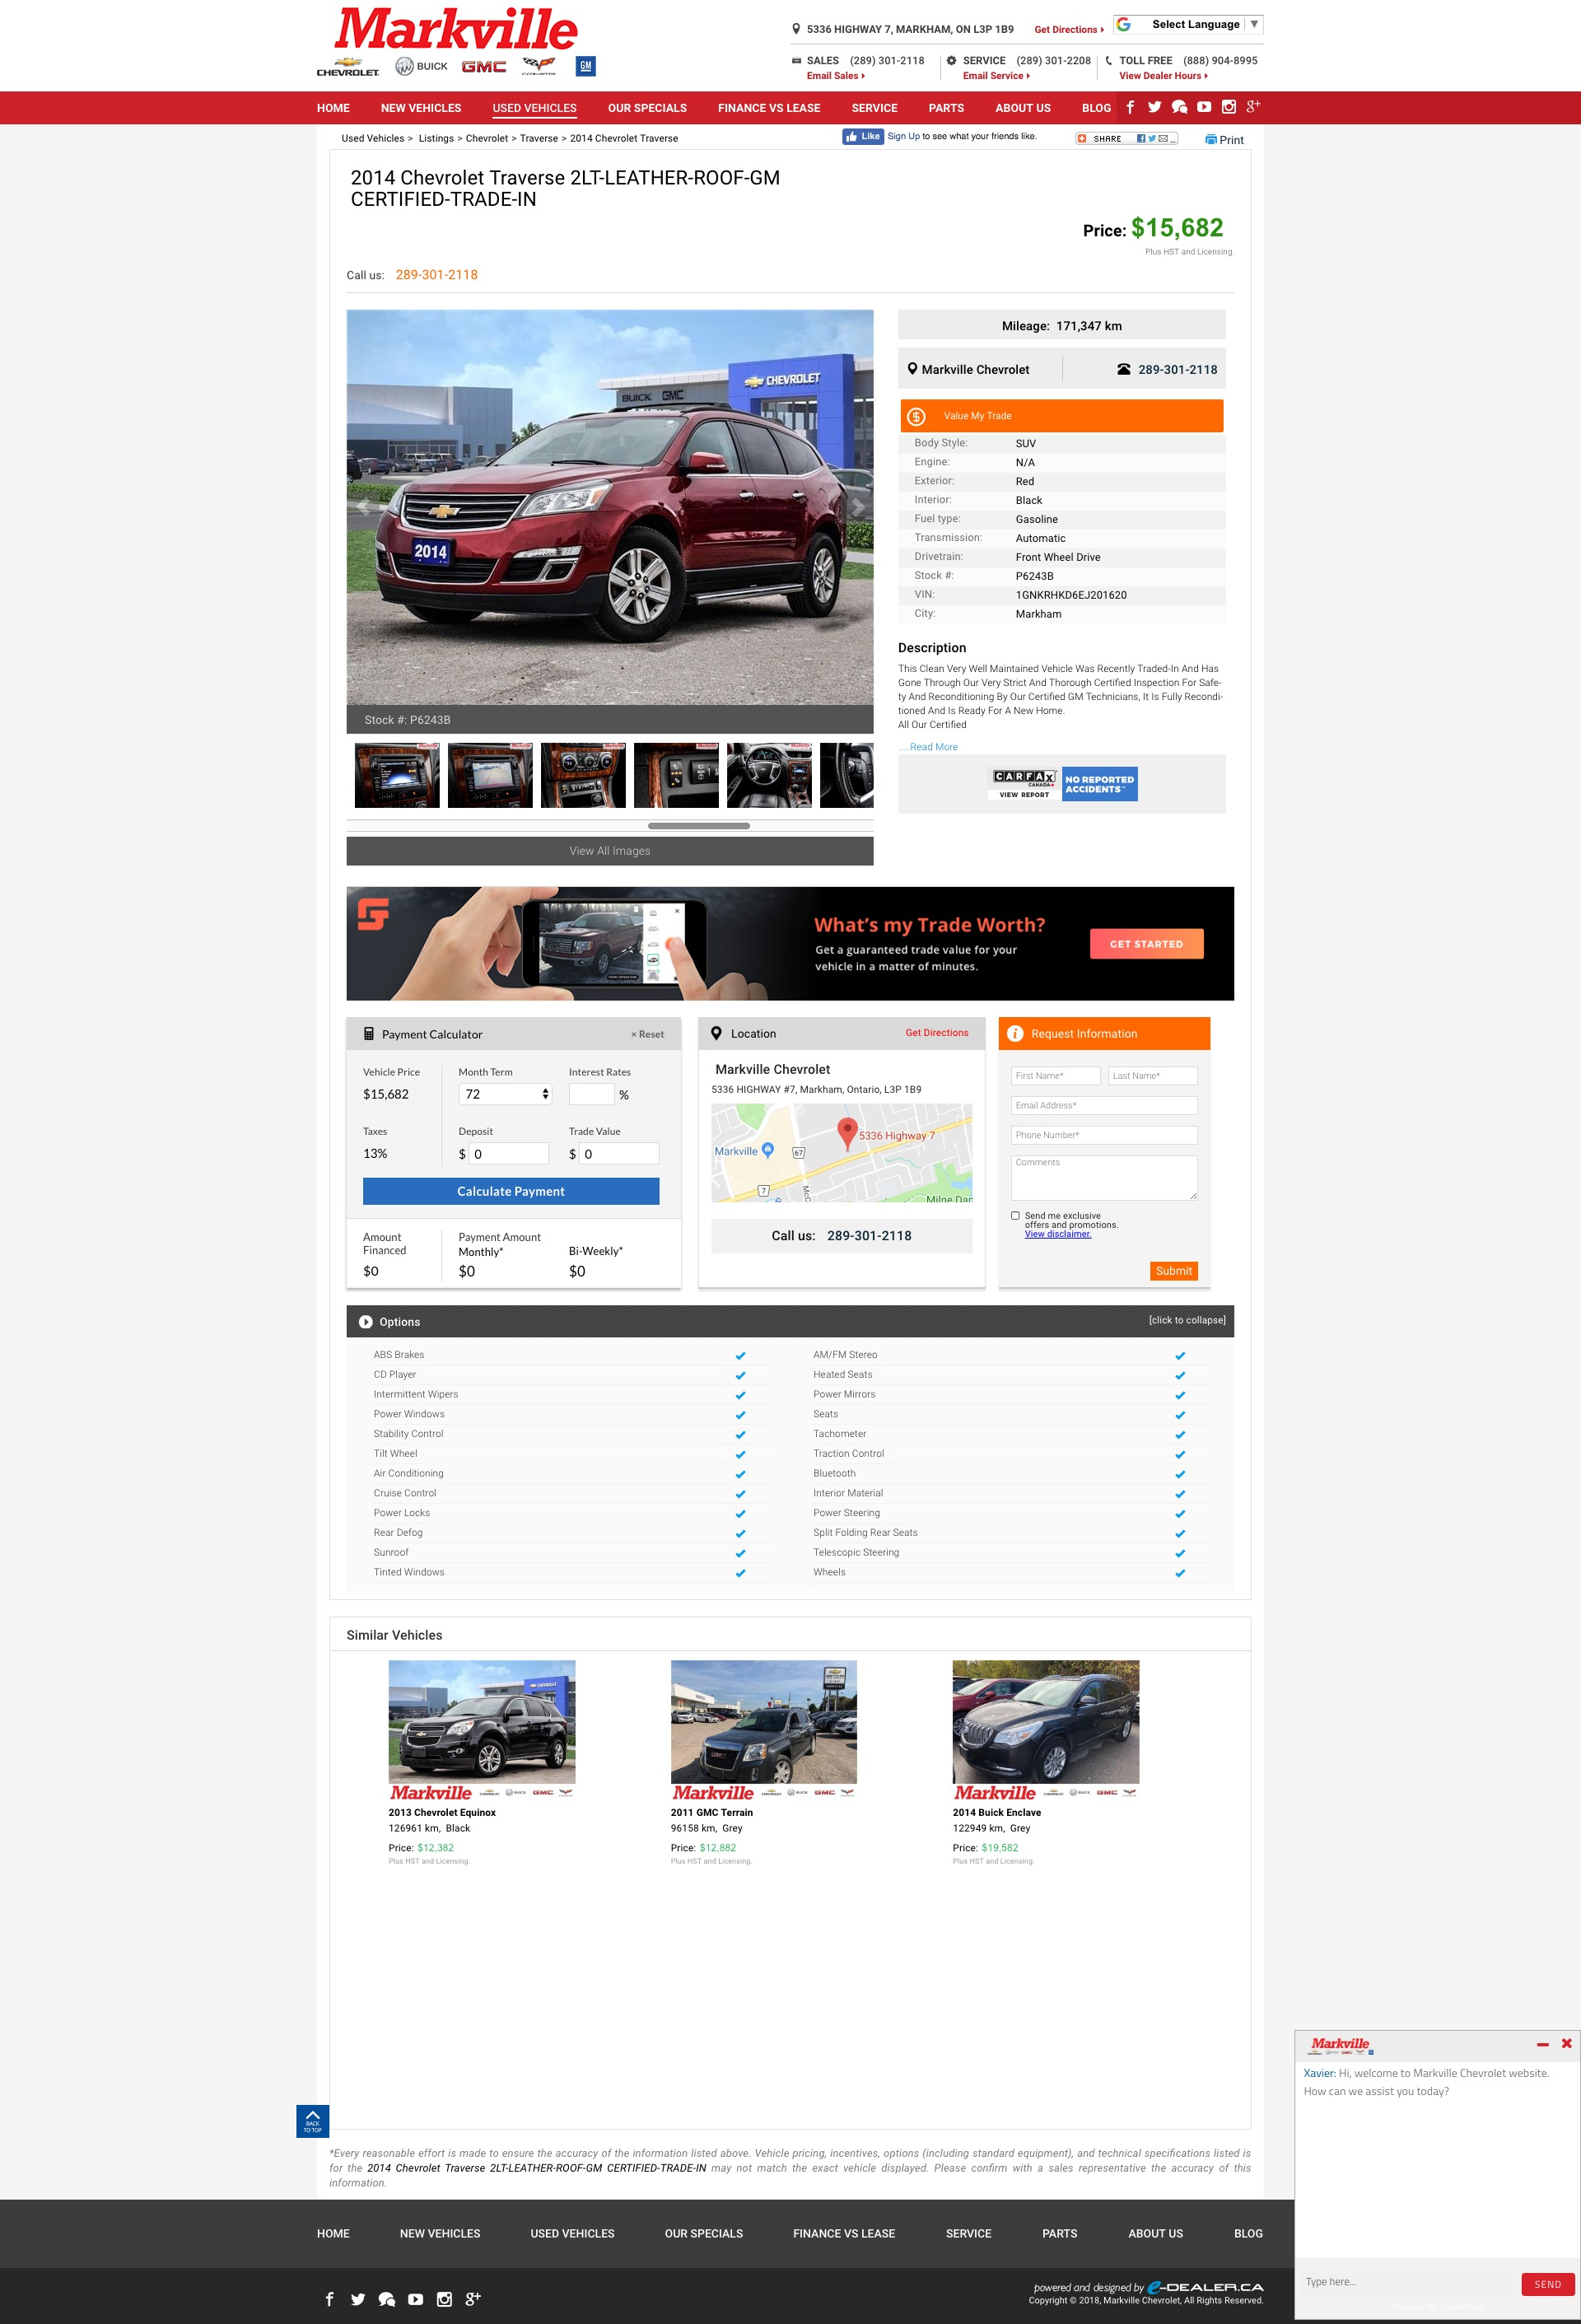car: (852, 498, 866, 519)
